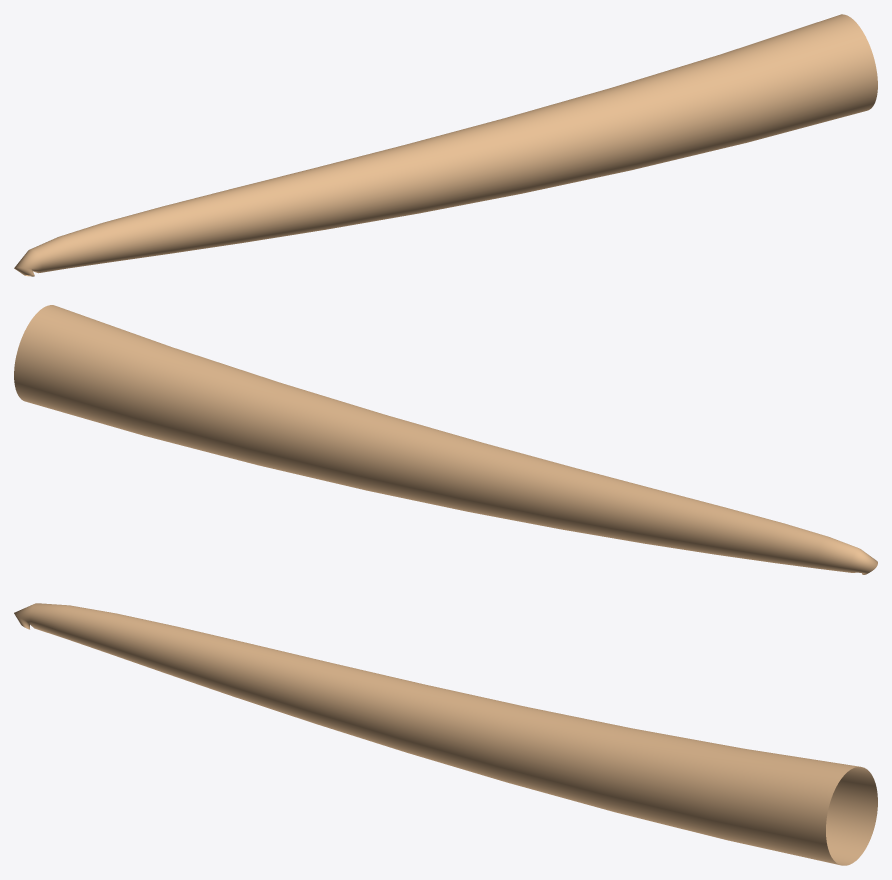
File: Uretra2.fbx
3 renders of one model, top to bottom at view 1: azimuth 30°, elevation 25°; view 2: azimuth 150°, elevation 25°; view 3: azimuth 330°, elevation 25°, orthographic.
Visible parts, largest first — view 1: BezierCurve_003; view 2: BezierCurve_003; view 3: BezierCurve_003.
Boxes of the visible parts, bbox=[...] form: BezierCurve_003: bbox=[14, 14, 877, 276]; BezierCurve_003: bbox=[14, 305, 877, 574]; BezierCurve_003: bbox=[14, 603, 877, 865].
Bounding box in the file's own units: 1.75 × 0.1915 × 0.181.
